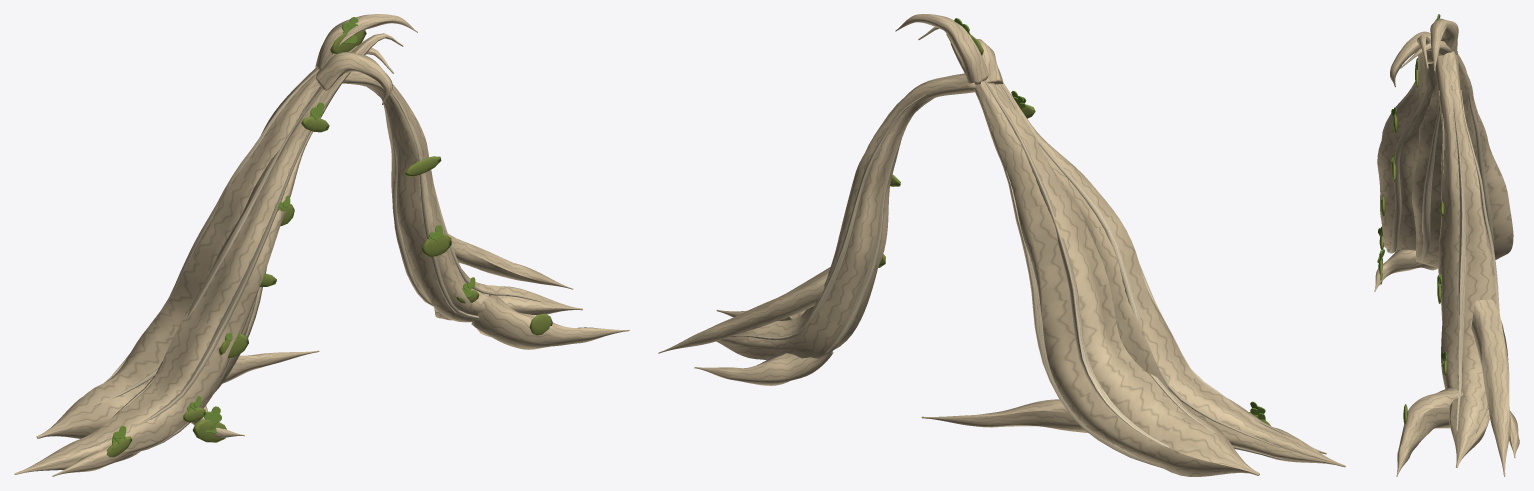
The model's file is wrapping-sword-roots.glb.
3 renders of one model, left to right at view 1: azimuth 30°, elevation 25°; view 2: azimuth 150°, elevation 25°; view 3: azimuth 270°, elevation 25°, orthographic. The views are drawn at different scales.
Parts seen in each view (by area): view 1: sword-roots-wood, sword-roots-bark-ridges, sword-roots-moss, sword-roots-leaves; view 2: sword-roots-wood, sword-roots-bark-ridges; view 3: sword-roots-wood, sword-roots-bark-ridges, sword-roots-moss, sword-roots-leaves.
Boxes of the visible parts, left/top/right/bottom form: sword-roots-wood: left=14, top=14, right=629, bottom=476; sword-roots-bark-ridges: left=75, top=70, right=540, bottom=452; sword-roots-moss: left=106, top=30, right=552, bottom=457; sword-roots-leaves: left=112, top=17, right=475, bottom=449; sword-roots-wood: left=658, top=14, right=1345, bottom=476; sword-roots-bark-ridges: left=730, top=64, right=1291, bottom=468; sword-roots-wood: left=1374, top=18, right=1519, bottom=476; sword-roots-bark-ridges: left=1381, top=48, right=1499, bottom=433; sword-roots-moss: left=1378, top=65, right=1447, bottom=423; sword-roots-leaves: left=1377, top=14, right=1446, bottom=366.
Size of the model in its own units: 19.71 by 11.44 by 4.25.
Materials: 4 (2 with a texture image).
